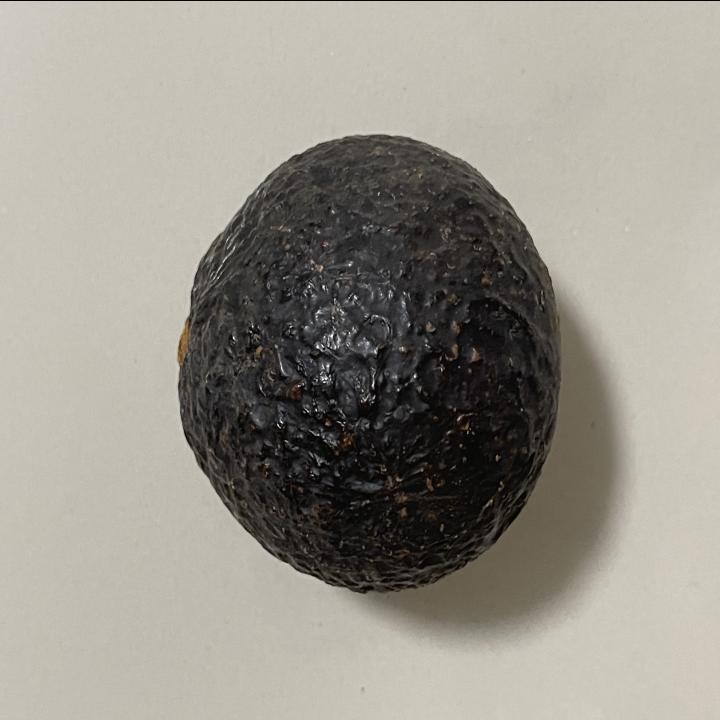Level2: (173, 126, 567, 598)
